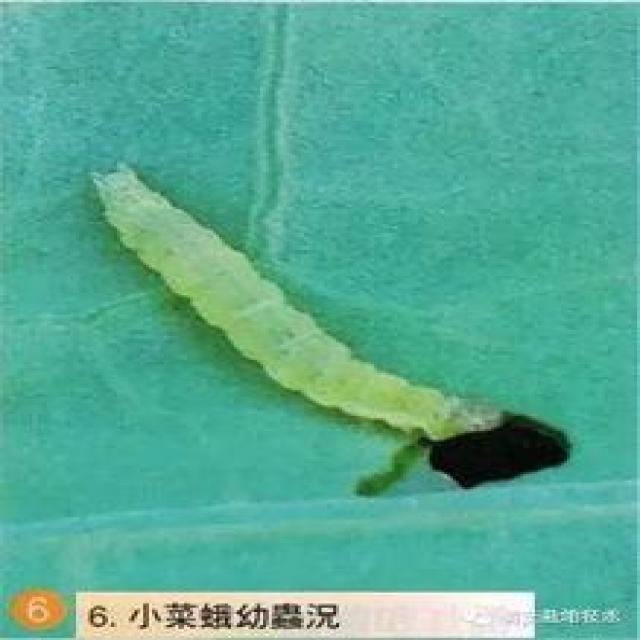BeetArmyWorm-Larva-: (72, 159, 509, 444)
